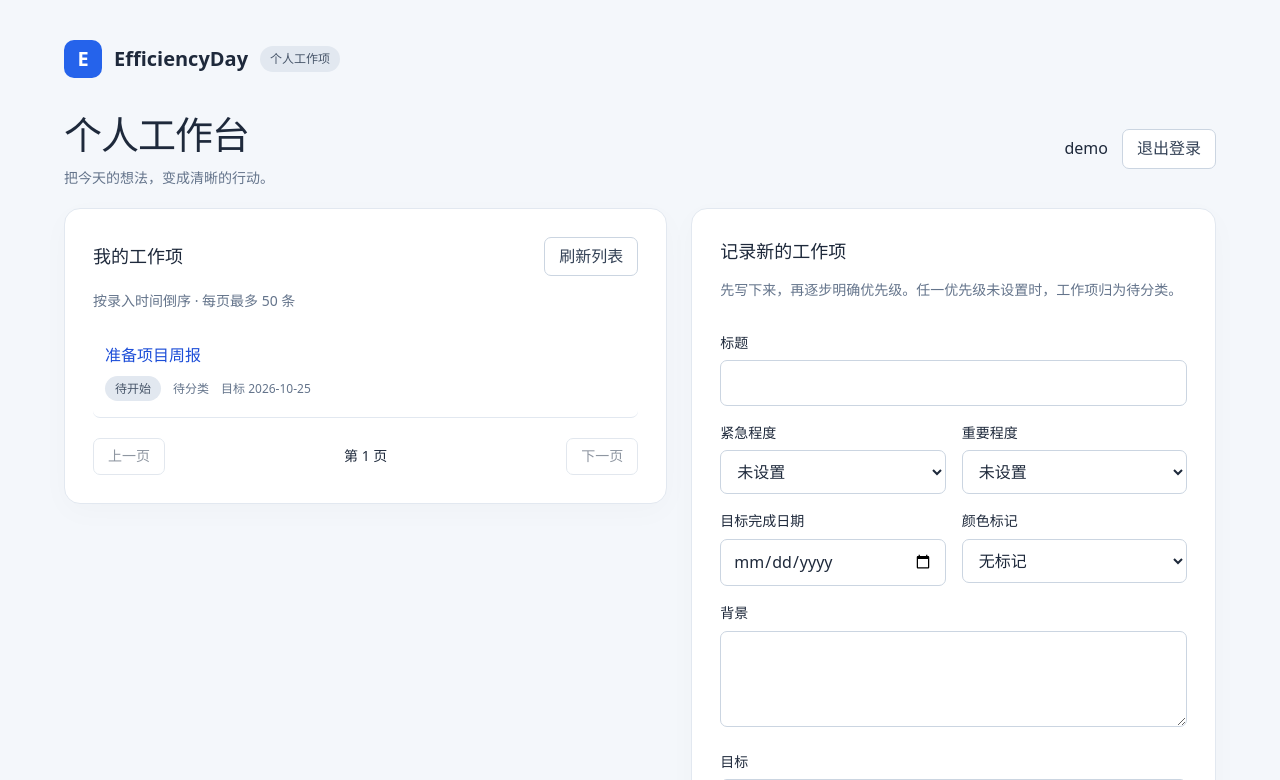
Test: does not let an earlier session check undo a confirmed auth change (login=false)
Expected: the button "准备项目周报" is shown, [105,343,201,368]
Step 1. Click the button "退出登录" → [1169, 149], box [1122,129,1216,169]
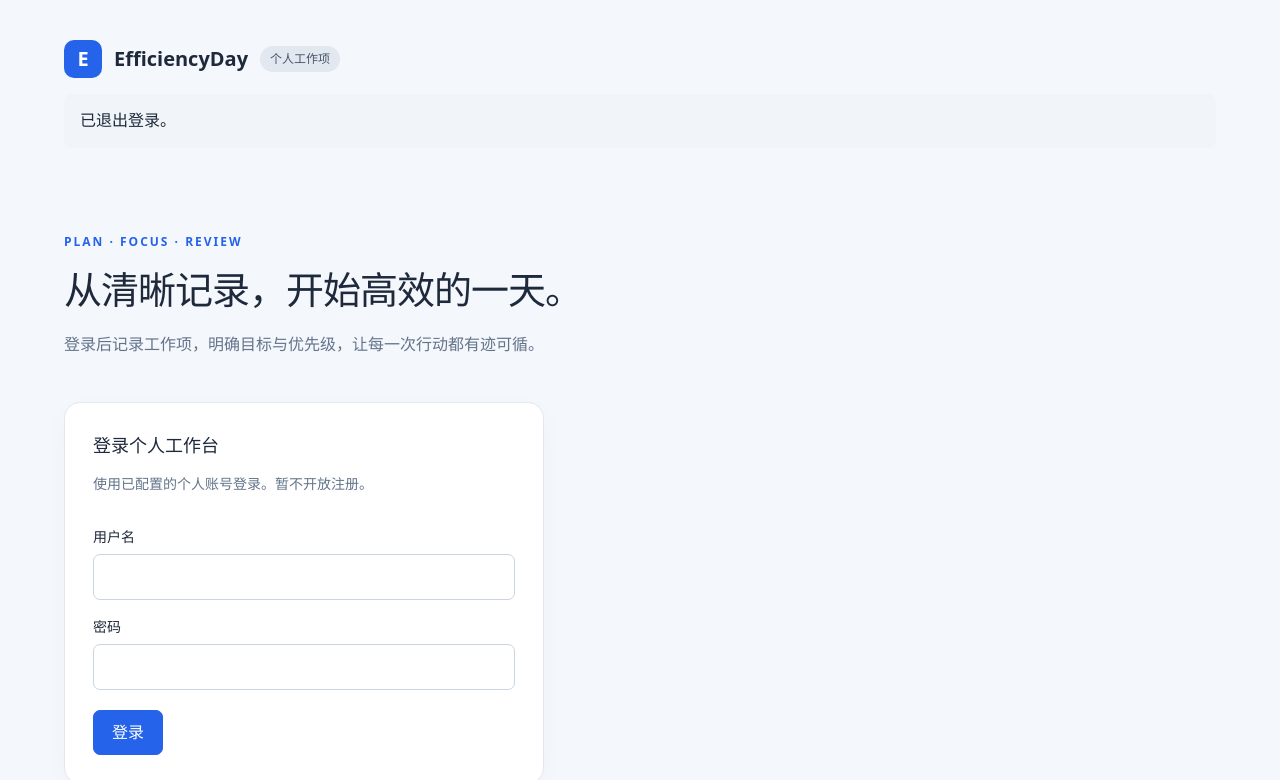
Now the button "登录" is shown, box [93,710,163,755]
